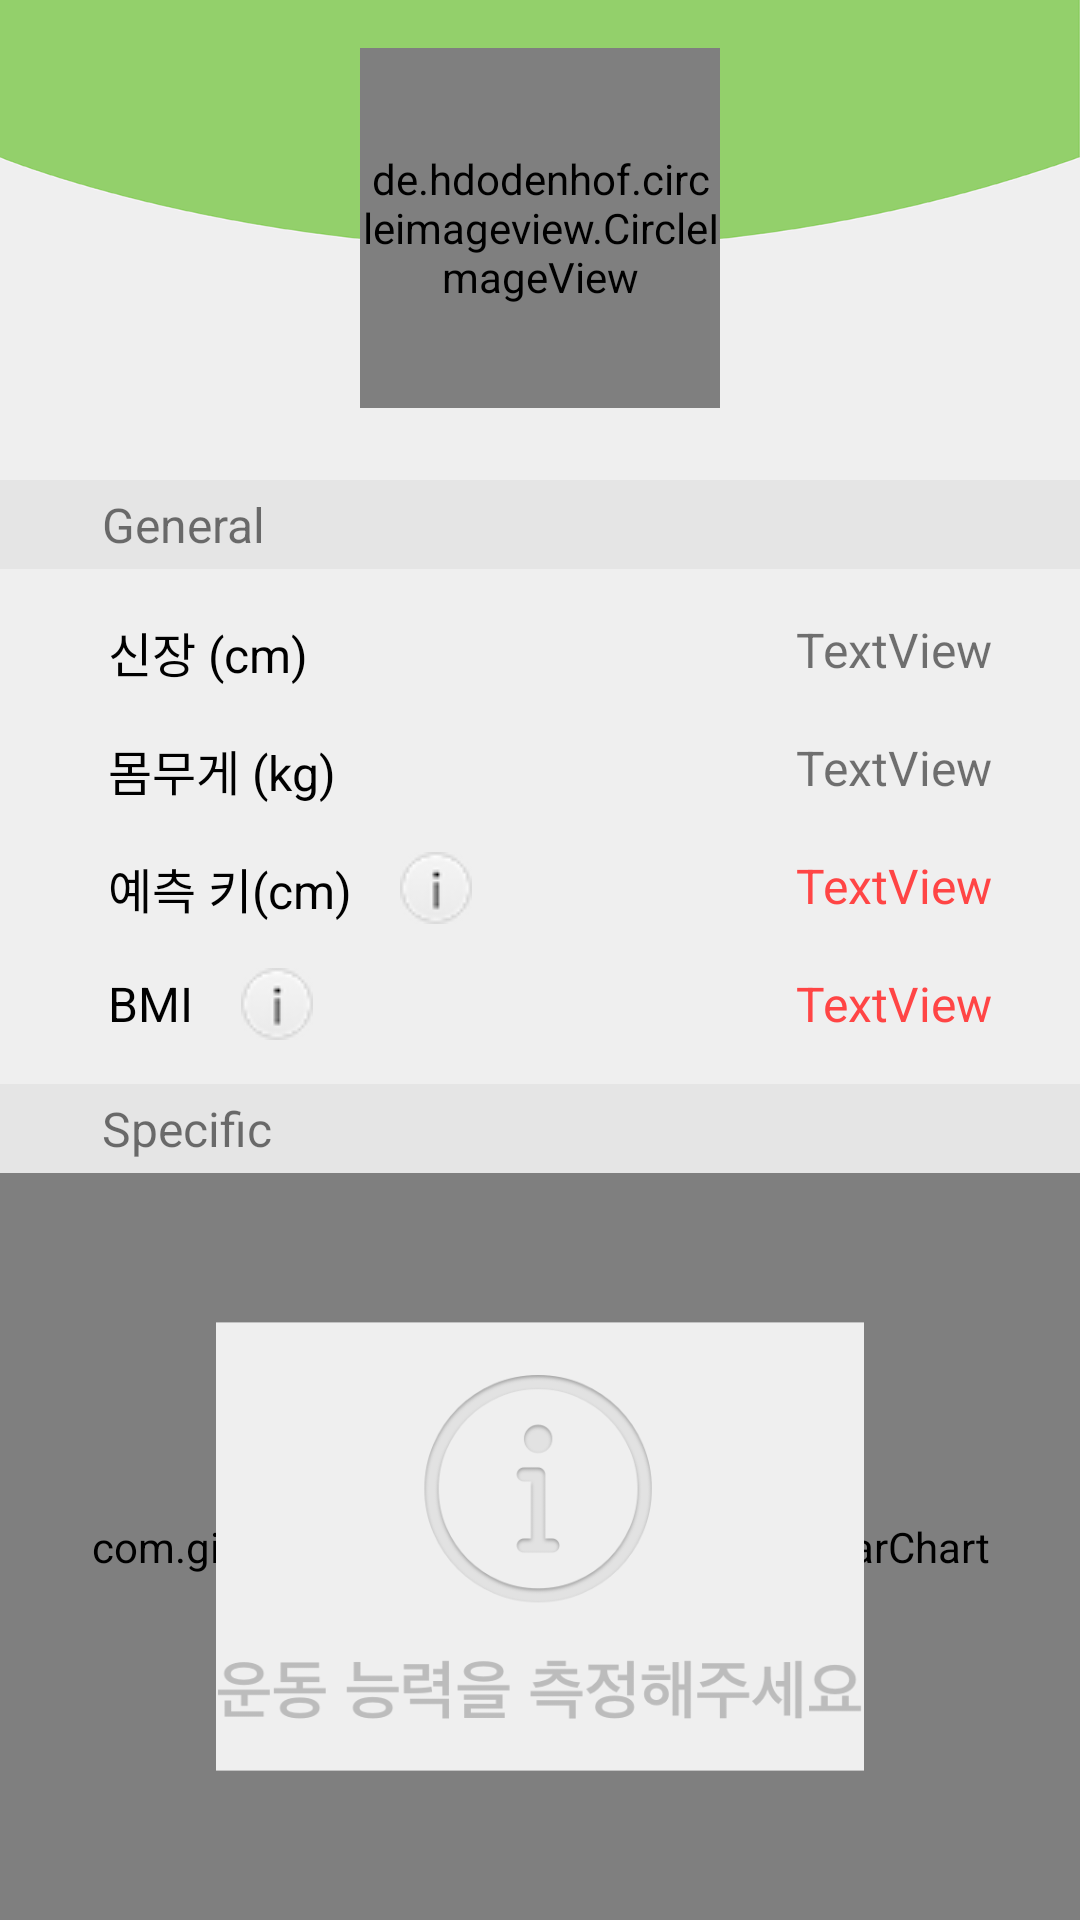

Named icons in this screenshot (1080w x 1920h) and their bounding boxes, (x1, y1, x2, y2):
info: (410, 862, 462, 914), (251, 978, 303, 1033)
